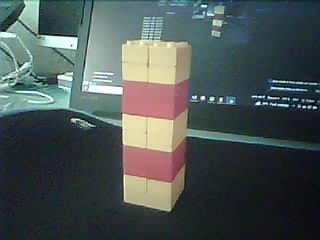lego: (121, 40, 192, 213)
